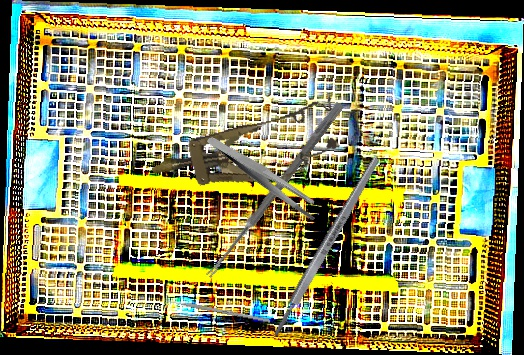Dressing Forceps: (205, 112, 324, 241)
Pusher: (158, 297, 271, 323)
Scalpel Handle: (269, 153, 383, 340)
Speculum: (144, 94, 346, 207)
Surgical Spoon: (204, 100, 345, 281)
